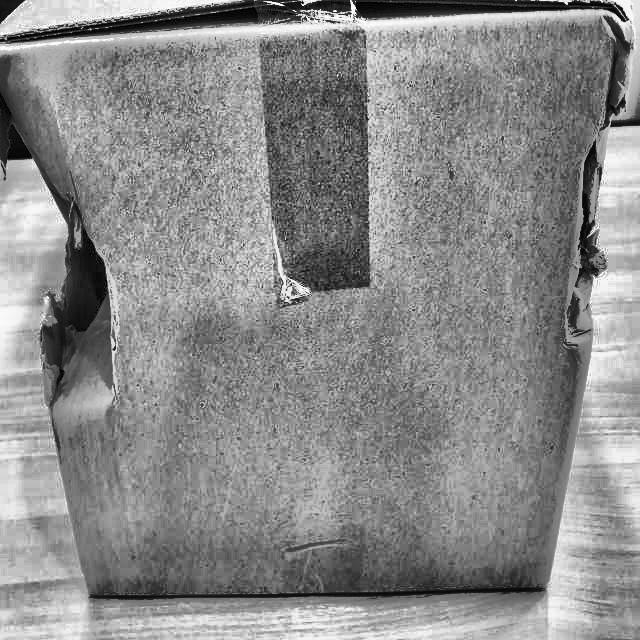box: (0, 2, 639, 613)
hole: (0, 37, 122, 407), (560, 27, 626, 339)
